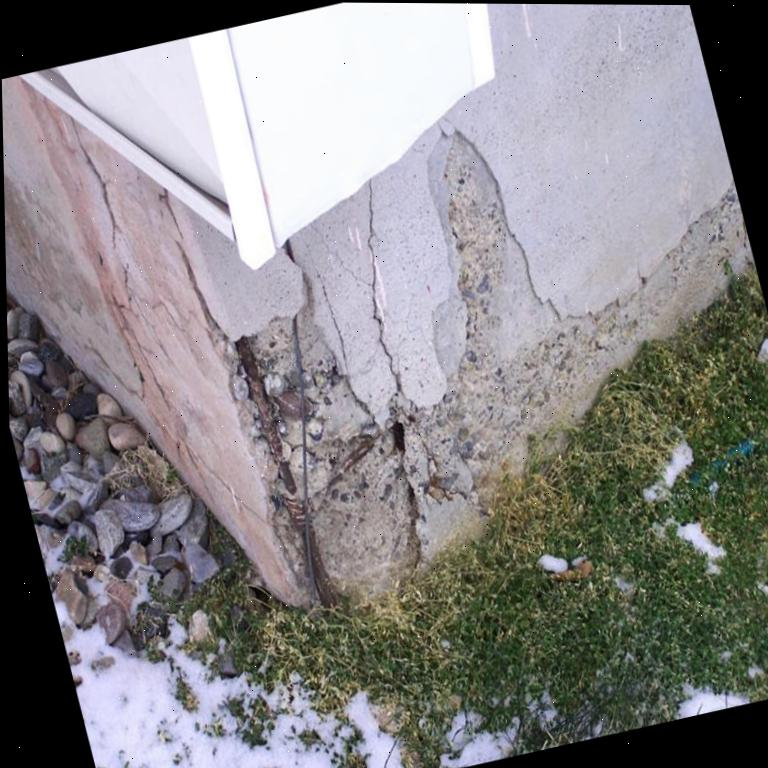exposed_rebar: (235, 338, 303, 531), (275, 390, 302, 419)
spalling: (231, 130, 752, 597)
